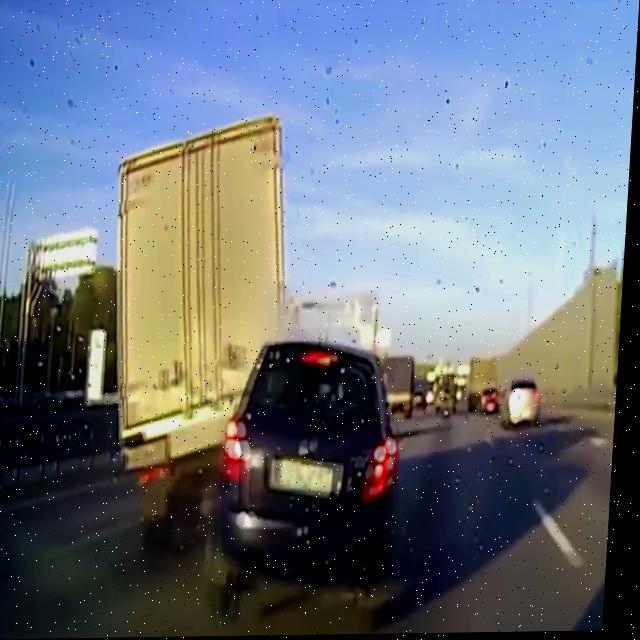multiple_accident: (103, 228, 426, 635)
